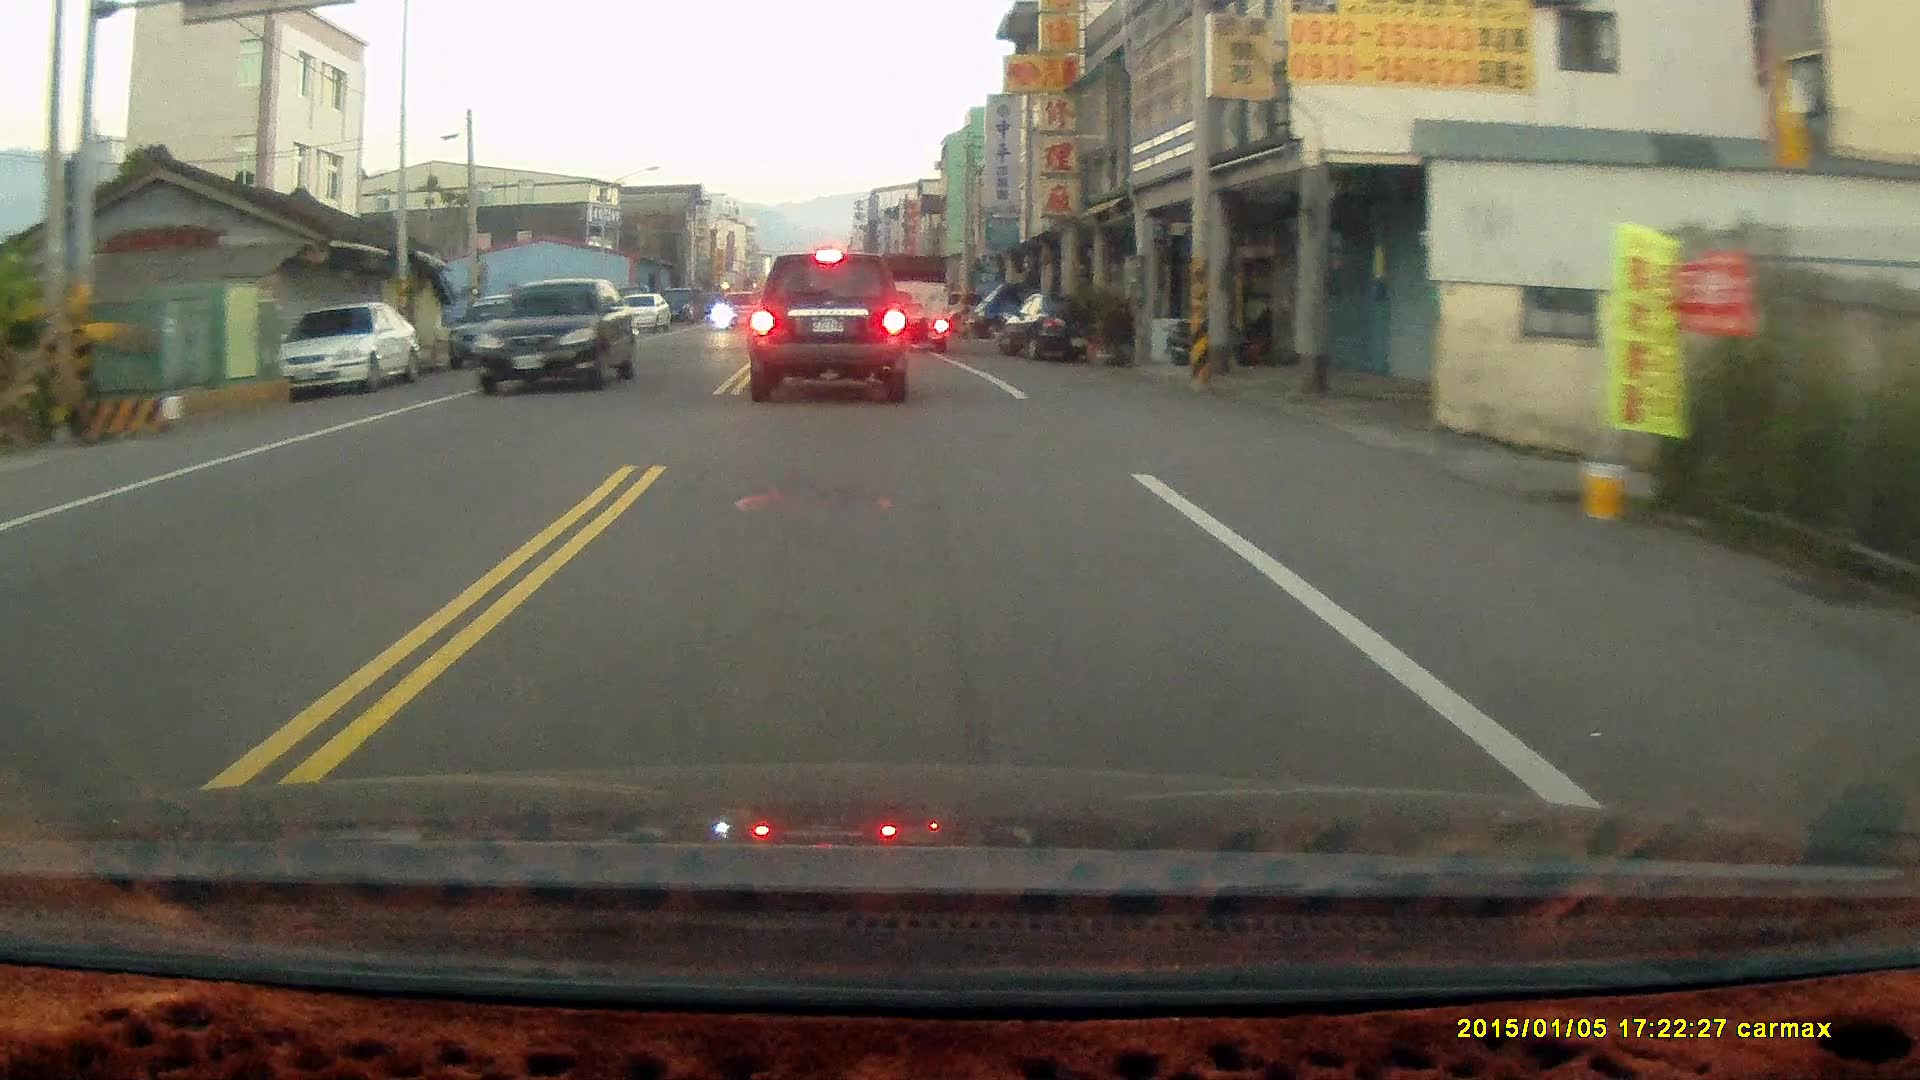vehicle: (750, 248, 915, 404), (475, 277, 638, 396), (274, 298, 422, 392), (1006, 291, 1120, 365), (876, 255, 952, 356), (455, 291, 556, 368), (615, 294, 673, 335)
